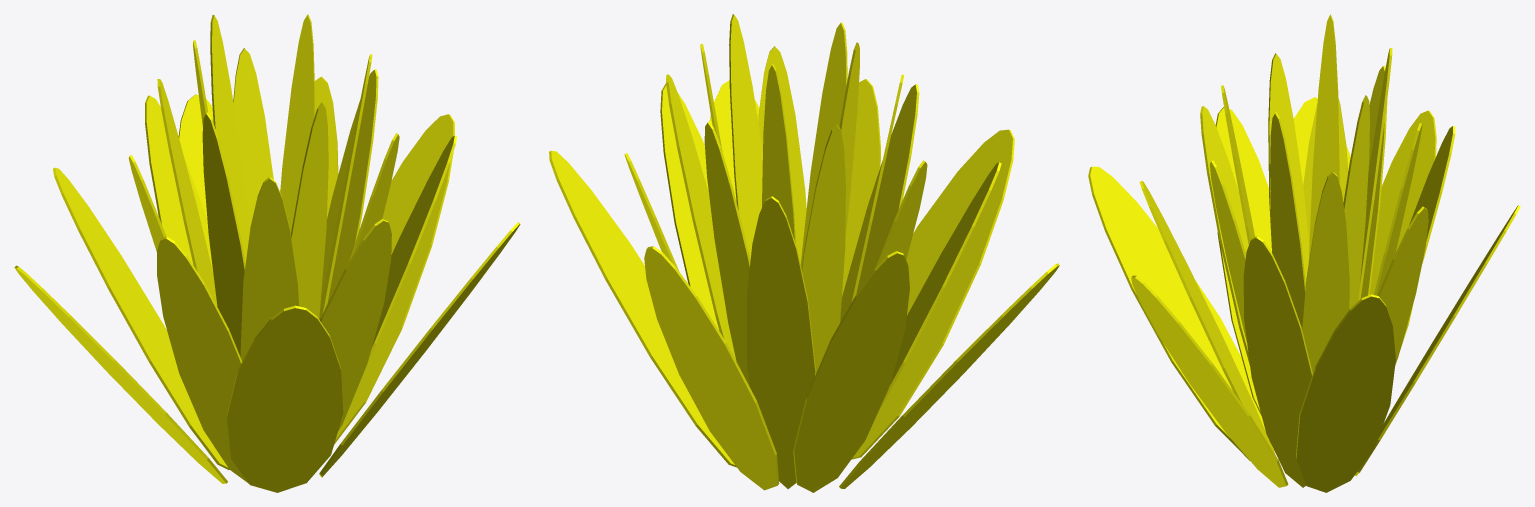
The model's file is grass_array01.glb.
The picture shows the model from 3 angles, left to right: view 1: azimuth 30°, elevation 25°; view 2: azimuth 150°, elevation 25°; view 3: azimuth 270°, elevation 25°; orthographic projection. The views are drawn at different scales.
Visible parts, largest first — view 1: grass_array01; view 2: grass_array01; view 3: grass_array01.
Part boxes in pixels (<box>): grass_array01: <box>14,14,520,492</box>; grass_array01: <box>549,14,1059,492</box>; grass_array01: <box>1088,14,1520,492</box>.
Bounding box in the file's own units: 3.25 × 2.97 × 2.73.
Materials: 1 (1 with a texture image).
